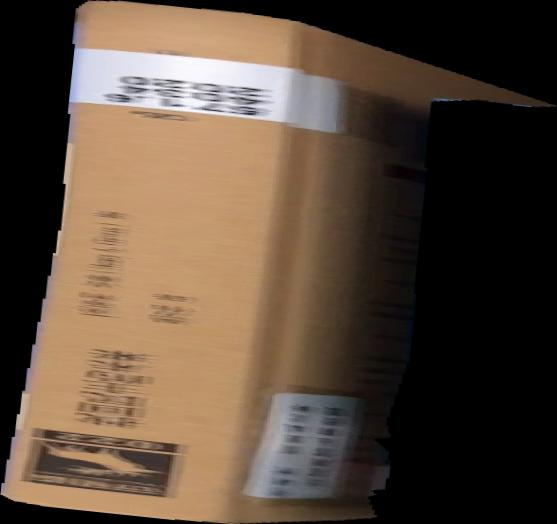reverse: (1, 1, 557, 524)
